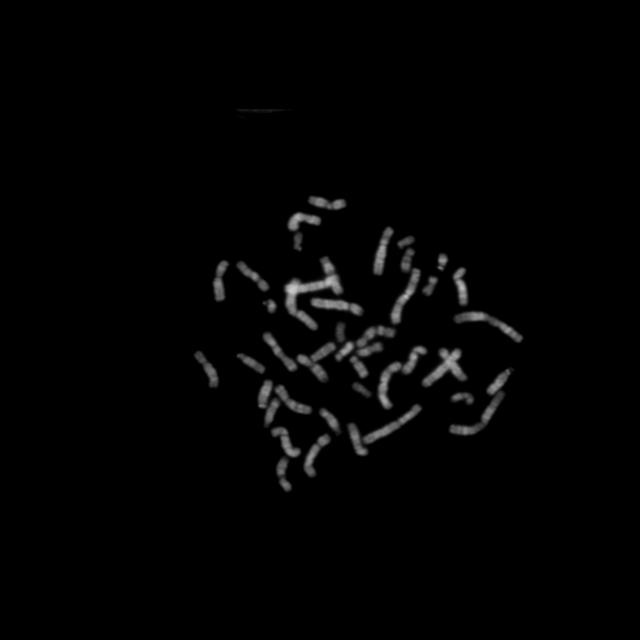chromosome: (450, 390, 504, 434), (364, 403, 422, 443), (455, 312, 523, 343), (392, 269, 421, 323), (286, 279, 316, 331), (423, 349, 461, 386), (264, 333, 296, 371), (304, 434, 330, 476), (276, 384, 312, 414), (378, 362, 400, 408), (439, 345, 466, 379), (312, 298, 362, 316), (322, 256, 344, 296), (373, 228, 392, 274), (237, 262, 268, 290), (283, 276, 337, 292), (195, 352, 219, 388), (298, 354, 326, 384), (272, 428, 300, 457), (357, 326, 395, 346), (486, 368, 512, 394), (402, 346, 426, 374), (348, 424, 368, 456), (288, 213, 322, 230), (236, 353, 264, 373), (214, 262, 228, 300), (320, 407, 340, 433), (310, 341, 336, 361), (454, 268, 468, 304), (308, 197, 346, 210), (278, 458, 292, 492), (263, 398, 279, 426), (258, 380, 272, 408), (356, 342, 382, 356), (336, 342, 354, 362), (349, 356, 366, 376), (402, 248, 414, 272), (423, 277, 437, 295), (352, 384, 372, 396), (452, 392, 472, 404), (336, 321, 346, 341), (263, 298, 275, 314), (397, 236, 413, 248), (438, 253, 448, 271), (294, 234, 304, 250)
